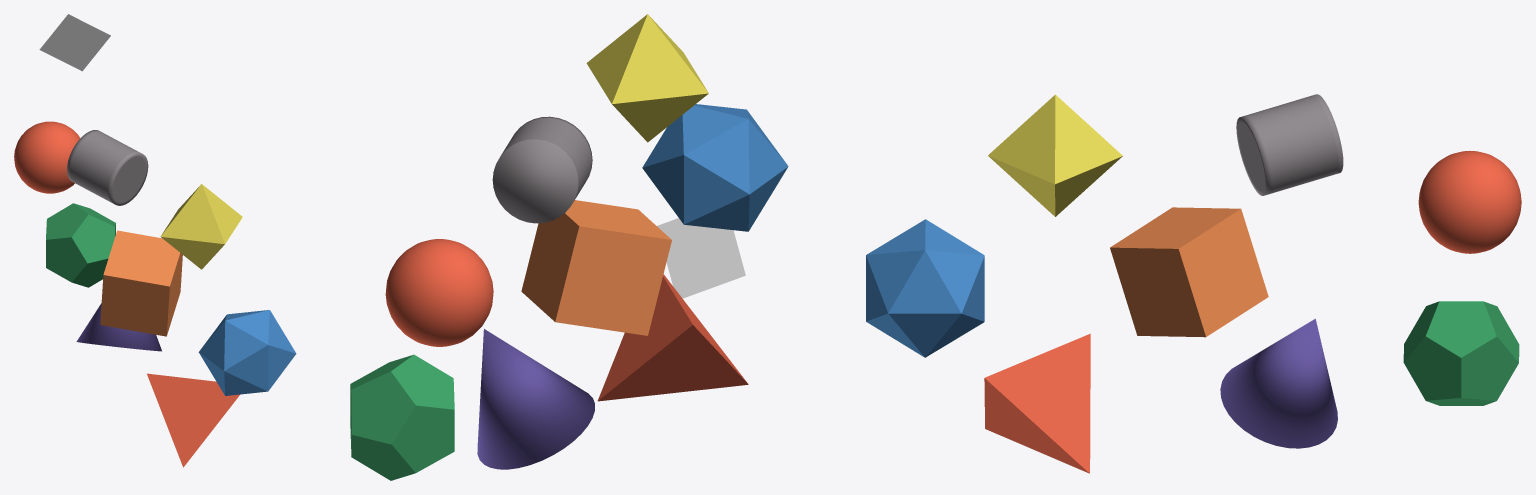
Rendered from usssee.glb.
The picture shows the model from 3 angles, left to right: view 1: azimuth 30°, elevation 25°; view 2: azimuth 150°, elevation 25°; view 3: azimuth 270°, elevation 25°; orthographic projection. The views are drawn at different scales.
Visible parts, largest first — view 1: instance_0, instance_3, instance_4, instance_1, Cylinder, instance_2, Sphere, Plane.001, Cone; view 2: instance_0, instance_3, Cone, instance_4, Sphere, instance_1, instance_2, Cylinder, Plane; view 3: instance_0, instance_3, Cone, instance_1, instance_4, instance_2, Sphere, Cylinder.
Part boxes in pixels (x1=…): instance_0: x1=100, y1=230, x2=182, y2=336; instance_3: x1=198, y1=310, x2=296, y2=395; instance_4: x1=46, y1=203, x2=115, y2=287; instance_1: x1=147, y1=373, x2=239, y2=467; Cylinder: x1=67, y1=130, x2=148, y2=205; instance_2: x1=160, y1=184, x2=242, y2=269; Sphere: x1=14, y1=121, x2=80, y2=193; Plane.001: x1=39, y1=14, x2=110, y2=71; Cone: x1=76, y1=303, x2=161, y2=351; instance_0: x1=521, y1=200, x2=671, y2=335; instance_3: x1=642, y1=104, x2=788, y2=231; Cone: x1=477, y1=329, x2=594, y2=469; instance_4: x1=350, y1=354, x2=454, y2=480; Sphere: x1=385, y1=239, x2=493, y2=346; instance_1: x1=597, y1=274, x2=748, y2=401; instance_2: x1=586, y1=14, x2=708, y2=142; Cylinder: x1=492, y1=116, x2=592, y2=223; Plane: x1=657, y1=218, x2=745, y2=298; instance_0: x1=1110, y1=207, x2=1268, y2=337; instance_3: x1=866, y1=219, x2=984, y2=357; Cone: x1=1220, y1=318, x2=1337, y2=448; instance_1: x1=984, y1=333, x2=1090, y2=473; instance_4: x1=1403, y1=301, x2=1519, y2=405; instance_2: x1=988, y1=94, x2=1122, y2=216; Sphere: x1=1418, y1=150, x2=1521, y2=253; Cylinder: x1=1236, y1=94, x2=1343, y2=195.
Size of the model in its own units: 2.46 by 6.5 by 9.18.
